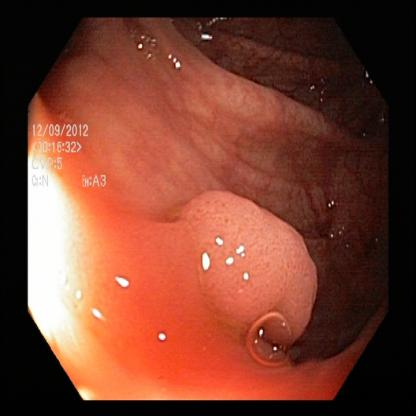Labels: (25, 106, 129, 227)
Polyps: (172, 175, 324, 351)
